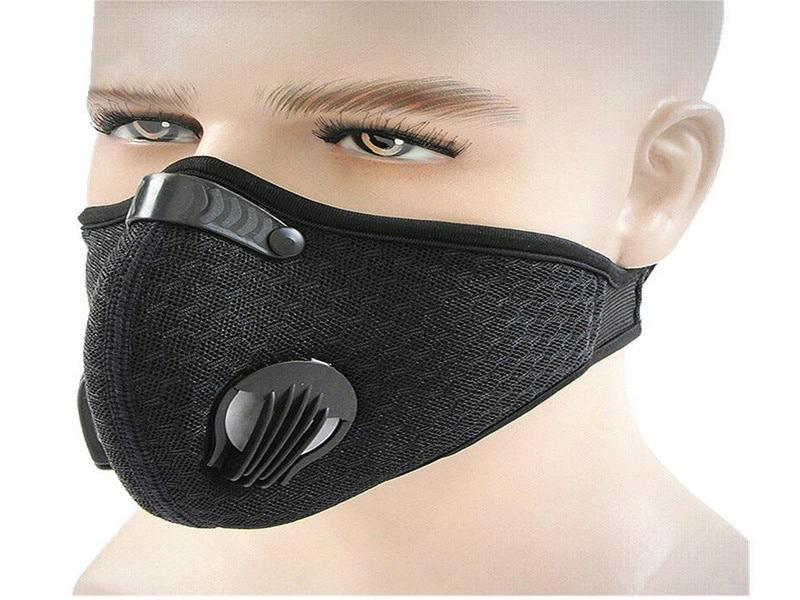with_mask: (60, 1, 722, 540)
